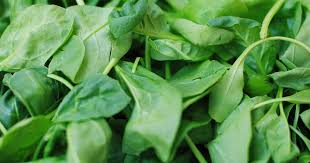spinach: (140, 16, 270, 146), (12, 6, 123, 147)
